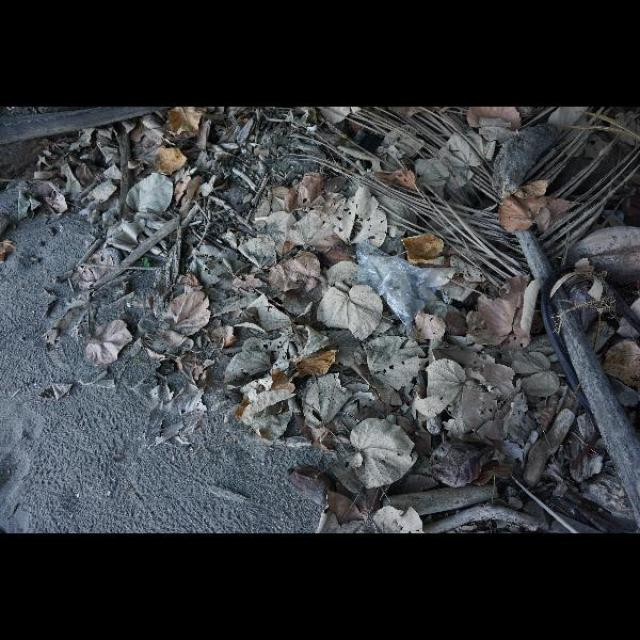dry_waste: (311, 116, 637, 528), (102, 112, 298, 418)
